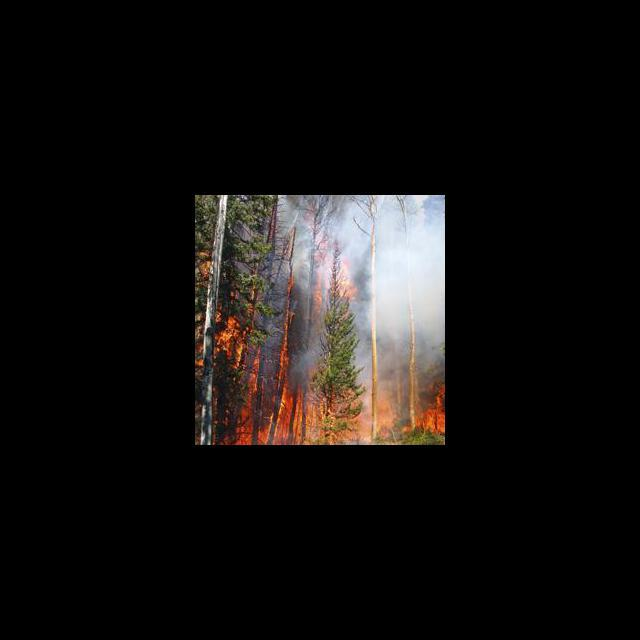Fire: (306, 204, 360, 312), (414, 383, 444, 438)
Smoke: (361, 198, 444, 376)
